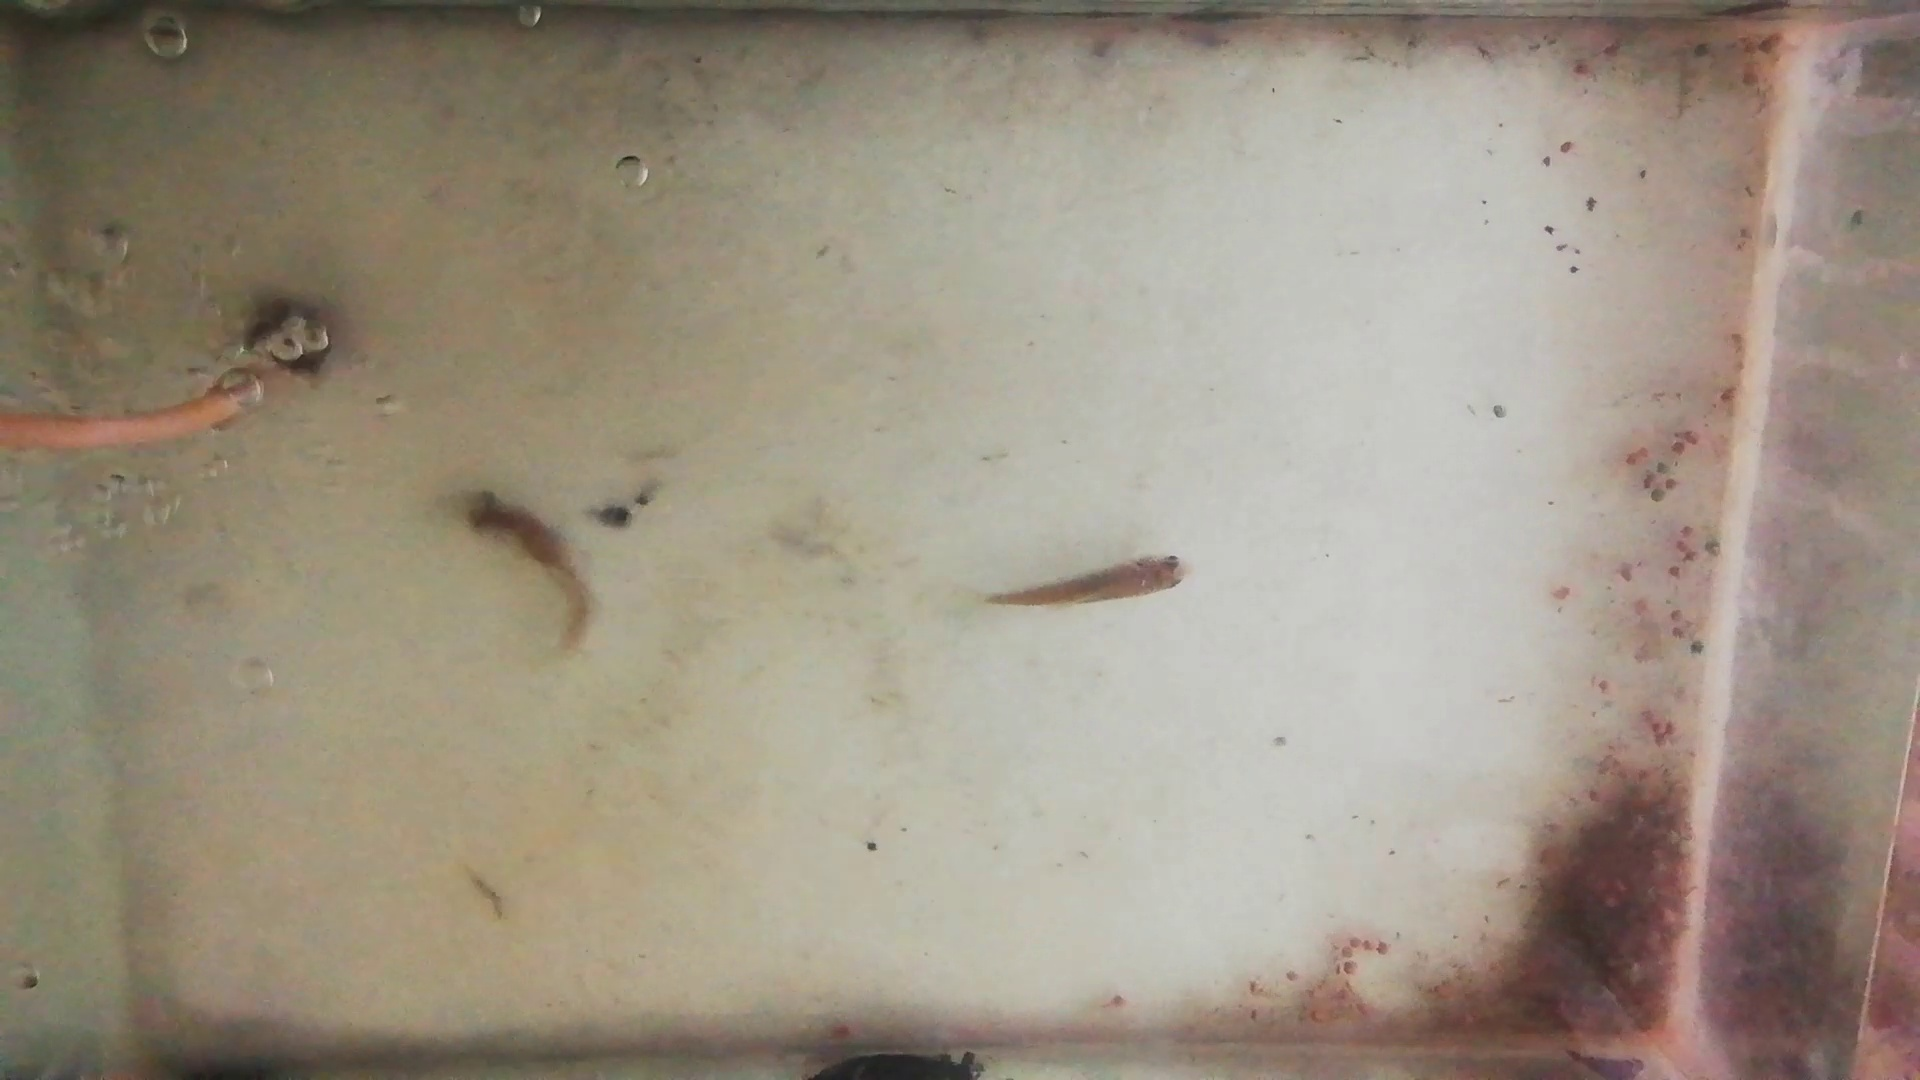fish: (462, 491, 595, 650), (985, 551, 1189, 607)
